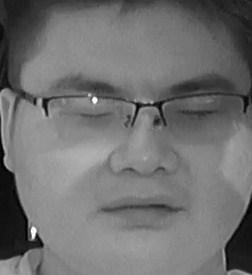blink: (178, 105, 215, 120), (78, 106, 109, 121)
glass: (41, 90, 139, 144), (158, 92, 243, 143)
mouth: (98, 191, 181, 226)
